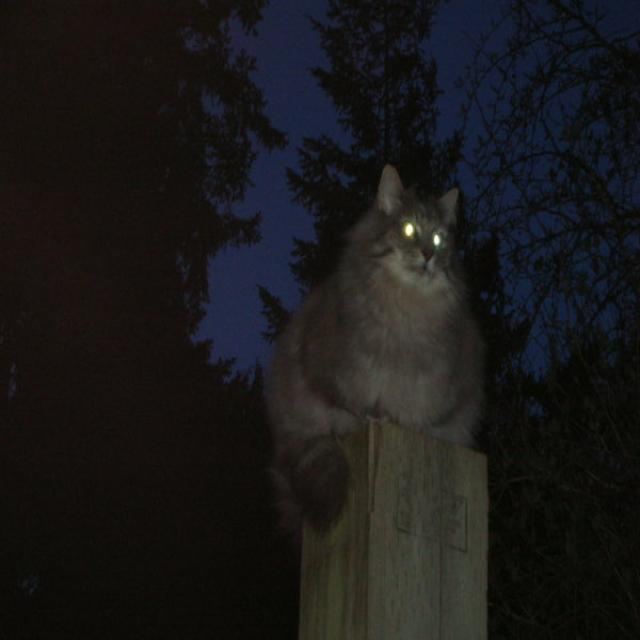Cat: (255, 125, 492, 548)
